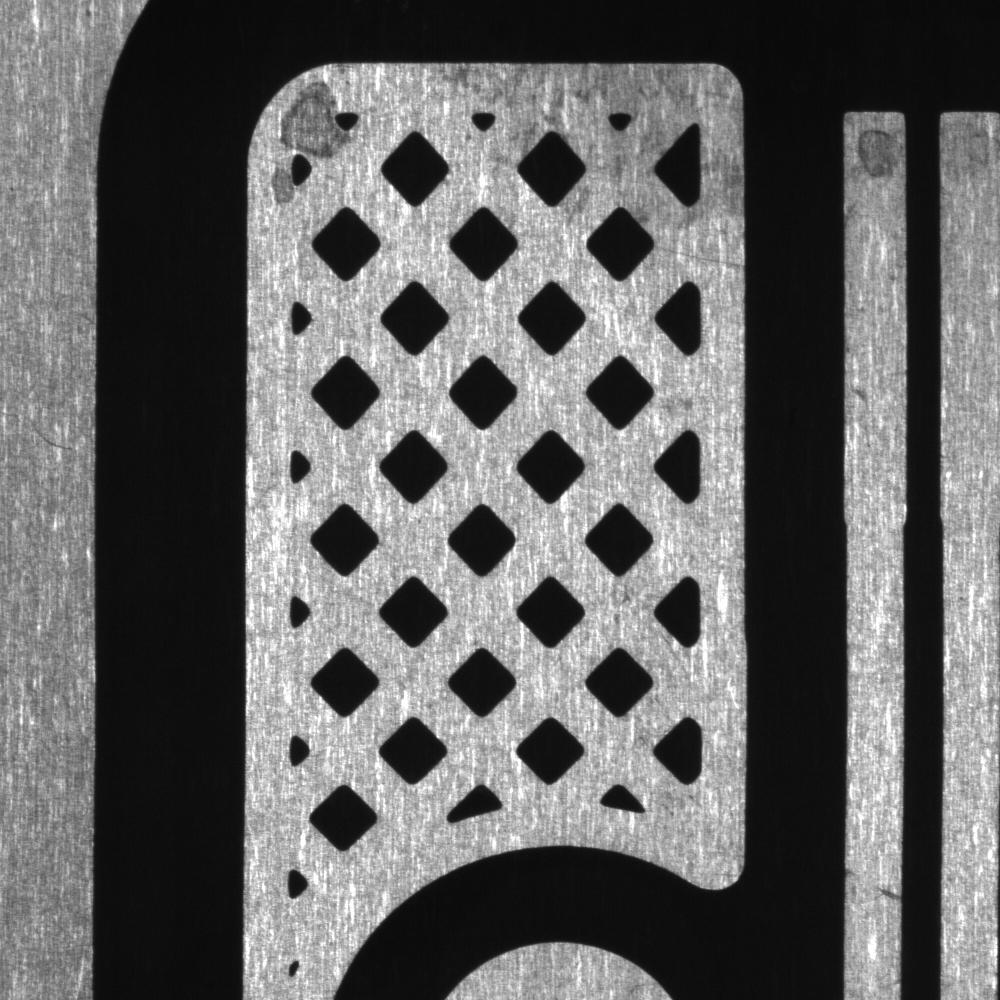Discolor: (441, 64, 735, 130), (275, 84, 372, 178), (849, 105, 908, 230), (944, 113, 992, 226)
Scar: (6, 380, 84, 485), (852, 850, 898, 928)
